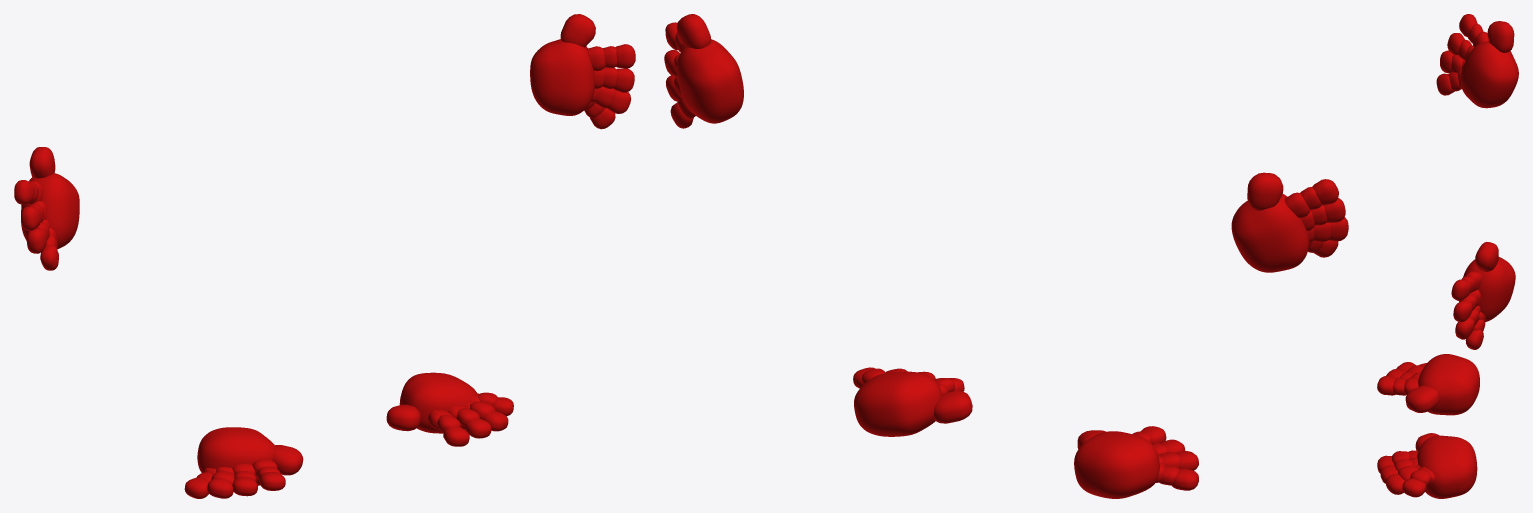
File: zone5-singe-red.gltf
3 renders of one model, left to right at view 1: azimuth 30°, elevation 25°; view 2: azimuth 150°, elevation 25°; view 3: azimuth 270°, elevation 25°, orthographic. The views are drawn at different scales.
Visible parts, largest first — view 1: Pieds et main; view 2: Pieds et main; view 3: Pieds et main.
Part boxes in pixels (bbox=[...]): Pieds et main: bbox=[14, 14, 635, 498]; Pieds et main: bbox=[664, 14, 1348, 498]; Pieds et main: bbox=[1377, 14, 1518, 498].
Size of the model in its own units: 5.45 by 3.07 by 1.22.
